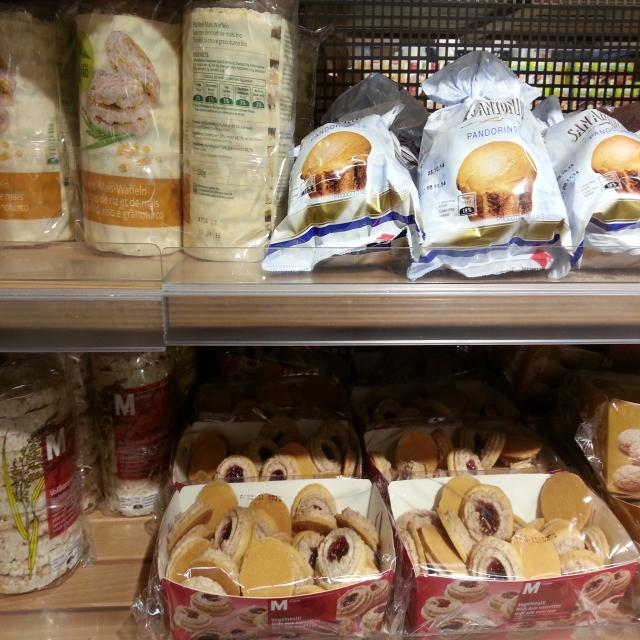Bakery: (385, 468, 640, 639), (156, 475, 390, 640), (409, 36, 570, 273), (275, 102, 409, 274), (545, 0, 640, 183)
Snacks: (182, 0, 298, 263), (76, 6, 185, 255), (0, 370, 89, 600), (0, 0, 75, 251), (86, 346, 179, 519)
